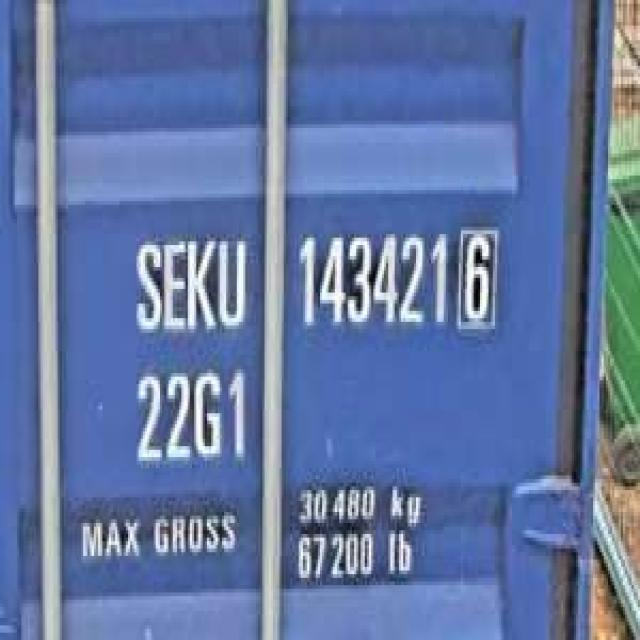dv: (454, 216, 502, 333)
owner: (128, 223, 250, 337)
serial: (290, 220, 448, 340)
size: (128, 358, 254, 472)
